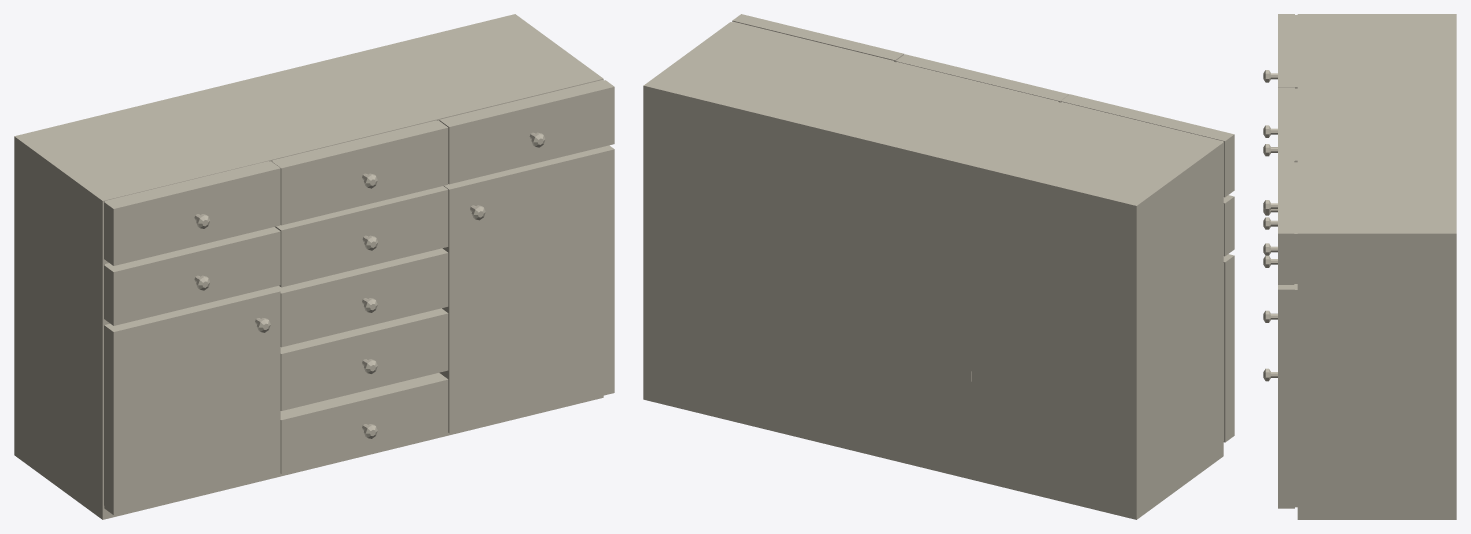
File: storage.glb
The picture shows the model from 3 angles, left to right: view 1: azimuth 30°, elevation 25°; view 2: azimuth 150°, elevation 25°; view 3: azimuth 270°, elevation 25°; orthographic projection. The views are drawn at different scales.
Visible parts, largest first — view 1: storage0; view 2: storage0; view 3: storage0.
Boxes of the visible parts, x1=… form: storage0: x1=14, y1=14, x2=614, y2=519; storage0: x1=643, y1=14, x2=1234, y2=519; storage0: x1=1263, y1=14, x2=1456, y2=519.
Bounding box in the file's own units: 1.51 × 0.9164 × 0.5598.
